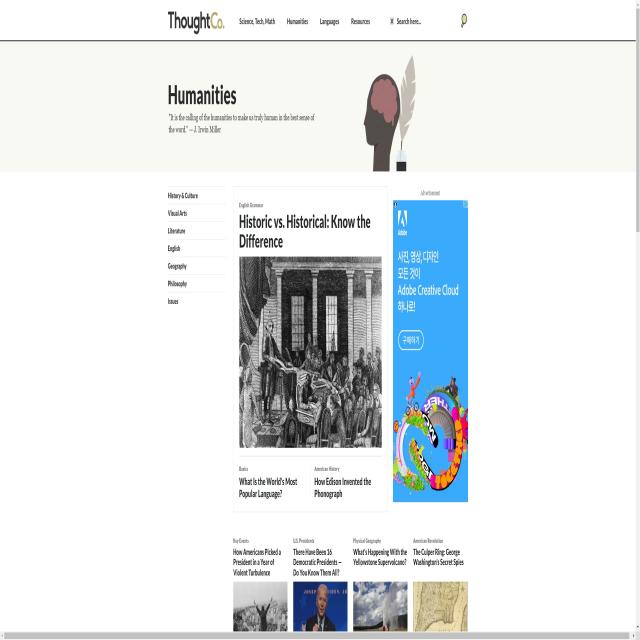menu-bar: (236, 8, 469, 36)
menu-panel: (166, 185, 230, 317)
search: (386, 11, 466, 34)
